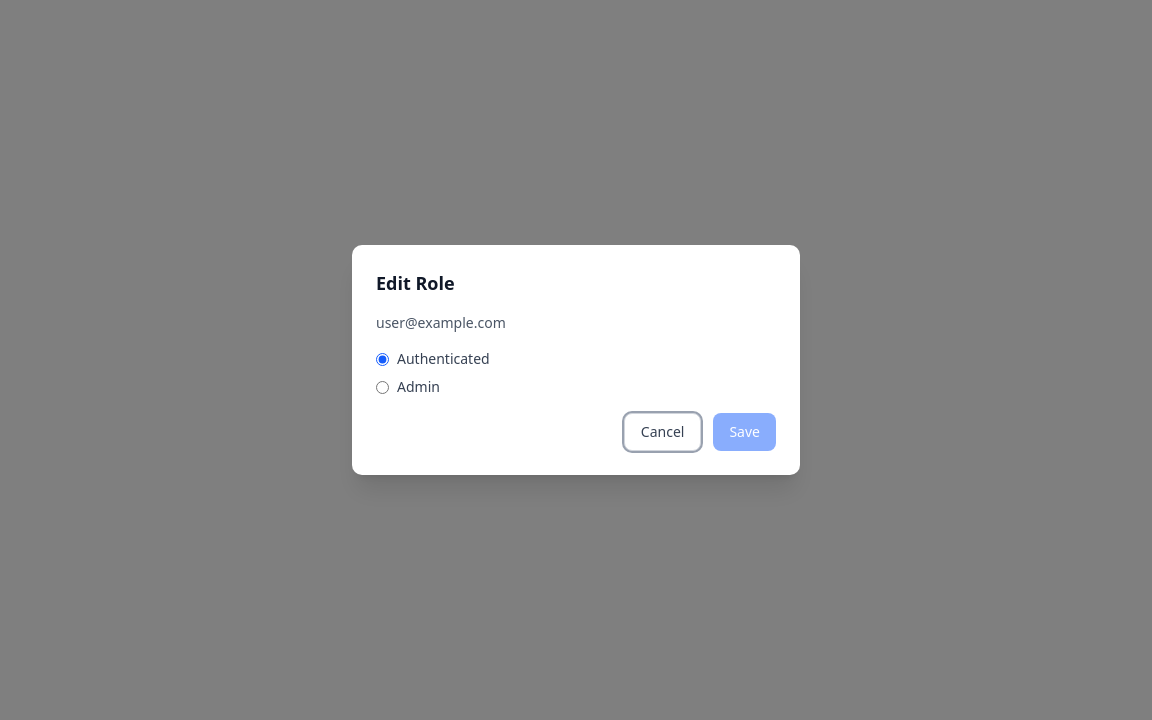
Test: RoleEditModal › Submit button state › becomes enabled when a different role is selected
This screenshot has width=1152, height=720.
Click the radio button labelled "Admin" at {"x": 382, "y": 387}, box [376,380,389,394]
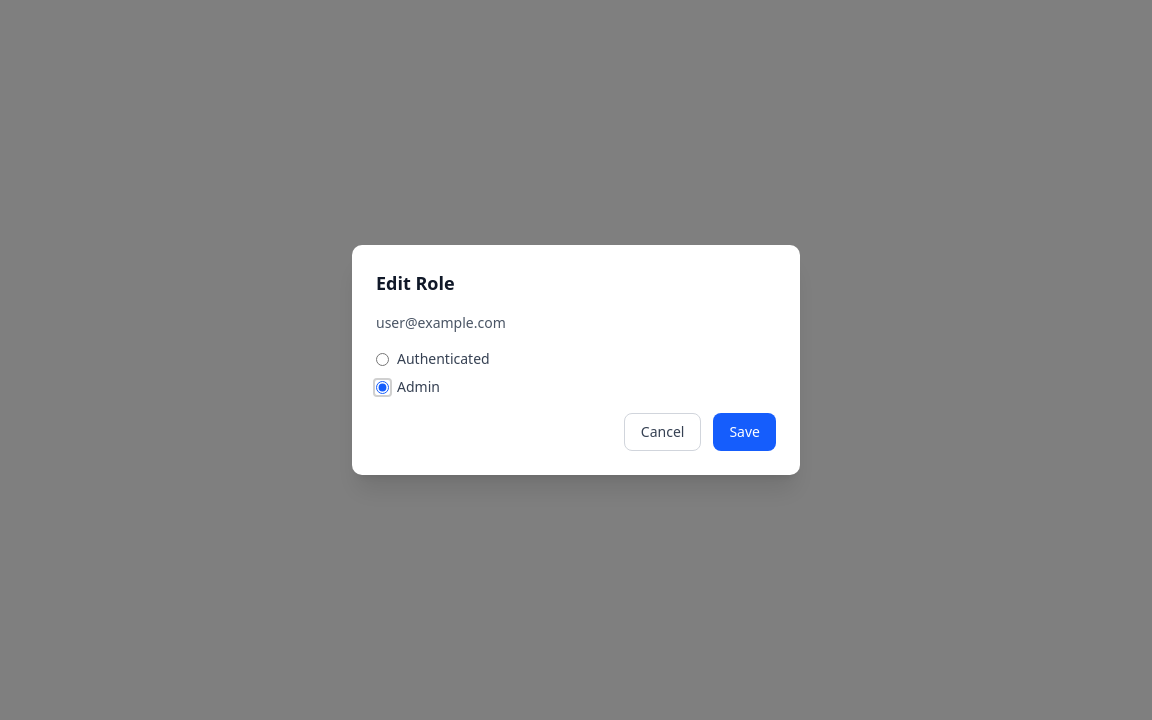
Check: the button "Save" is enabled, box [713,413,776,451]
